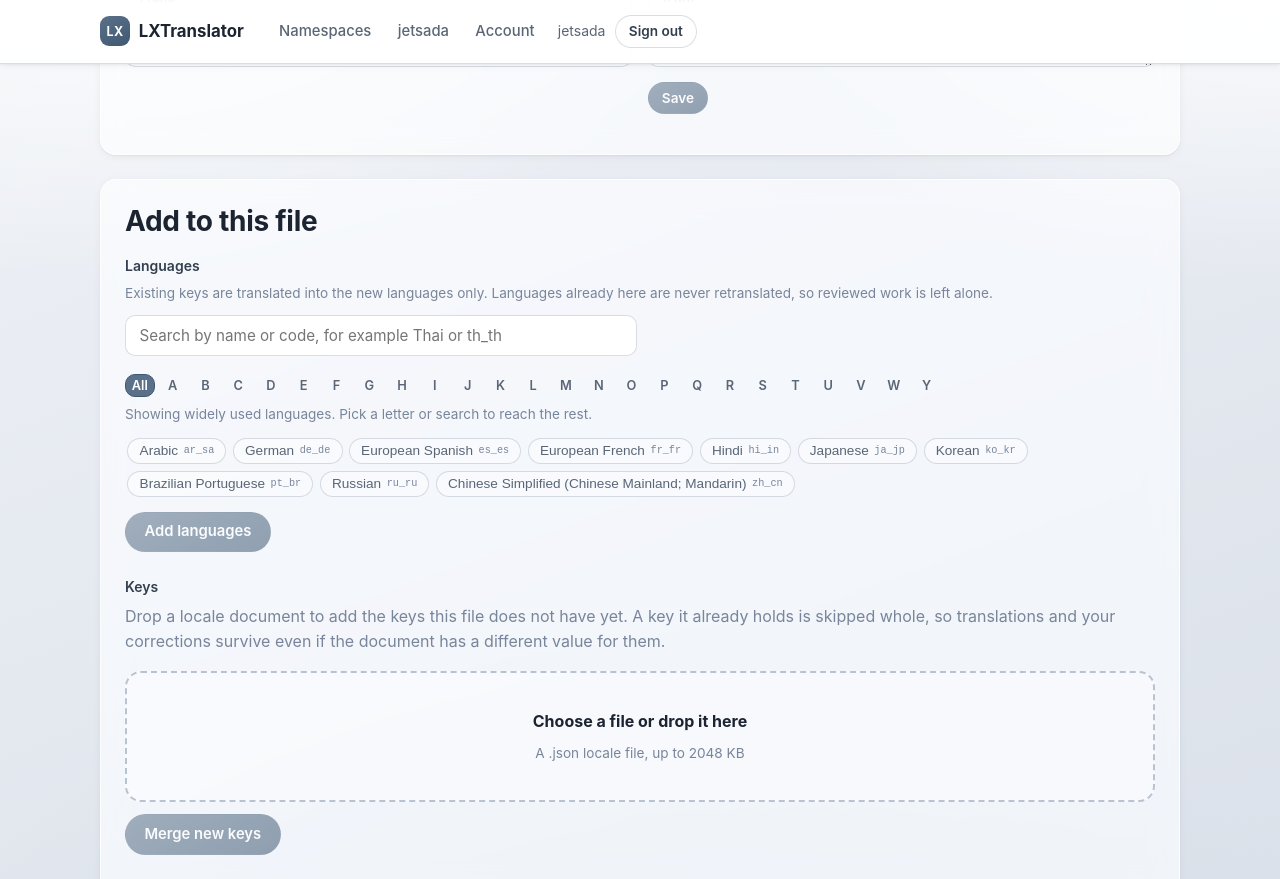
it: translation editor › adding languages › surfaces a server rejection
(page scrolled)
Expected: the heading "Add to this file" is shown, left=125, top=204, right=317, bottom=239
Click the button "Japanese ja_jp" at (857, 451), box left=798, top=438, right=917, bottom=464
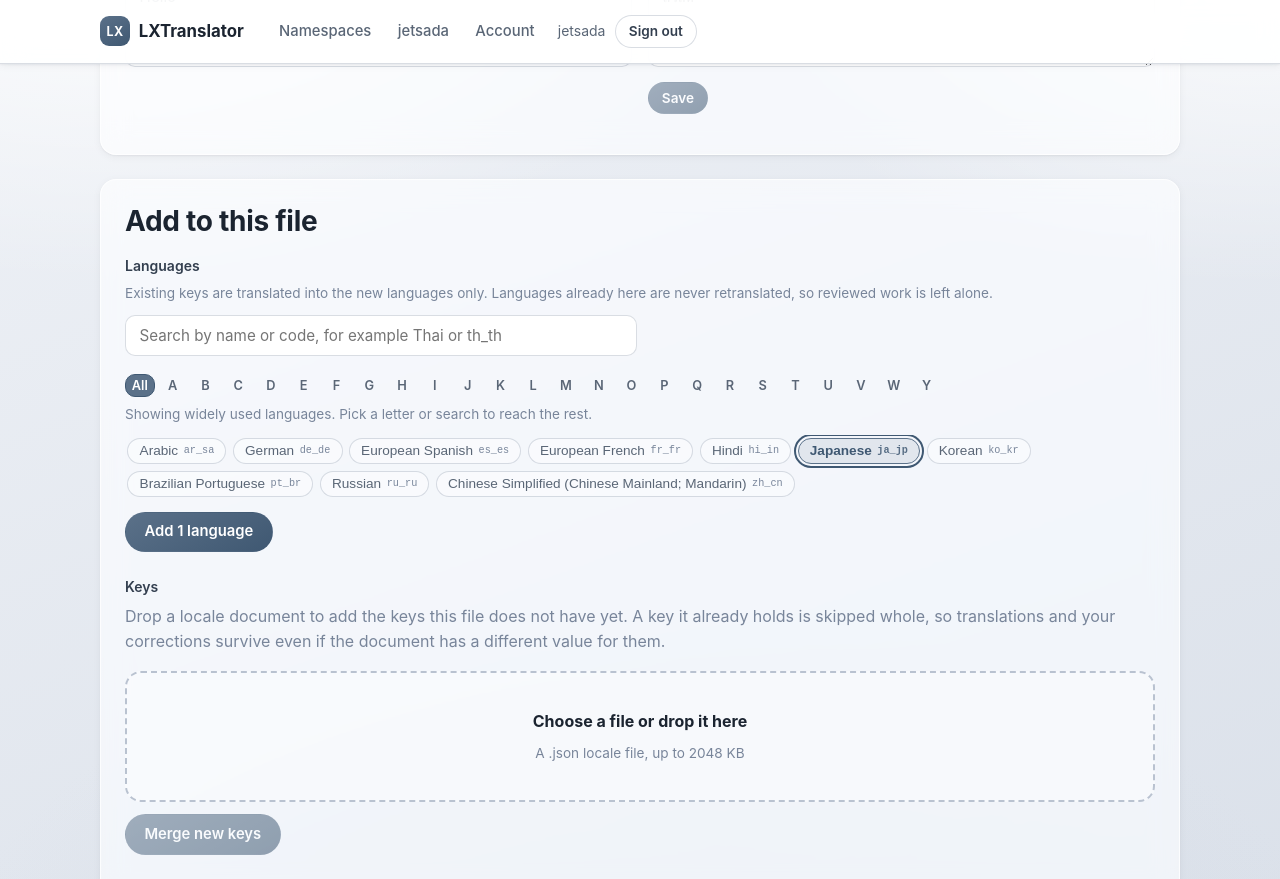
Click the button "Add 1 language" at (199, 532), box left=125, top=512, right=273, bottom=552
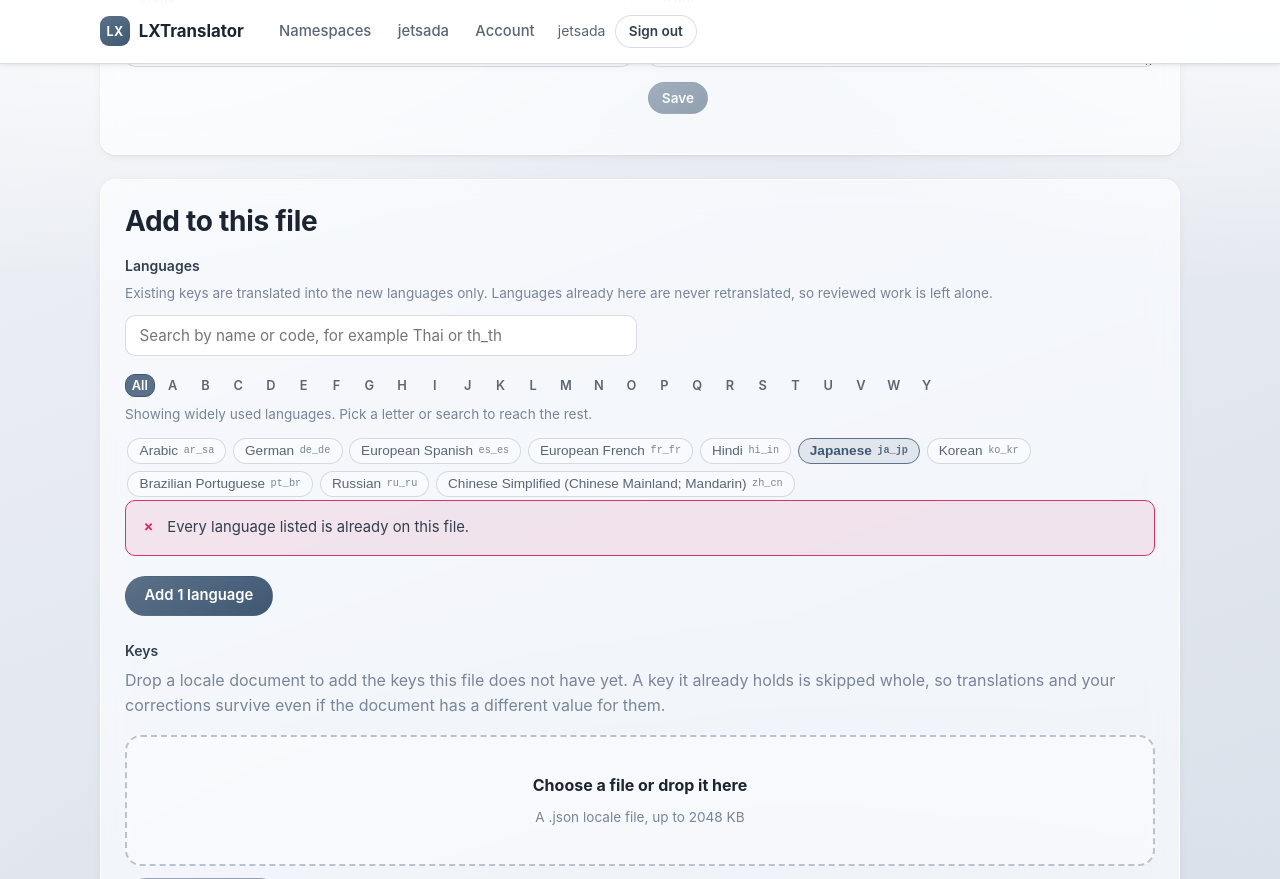
Result: the text "Every language listed is already on this file." is shown at left=167, top=518, right=469, bottom=536
